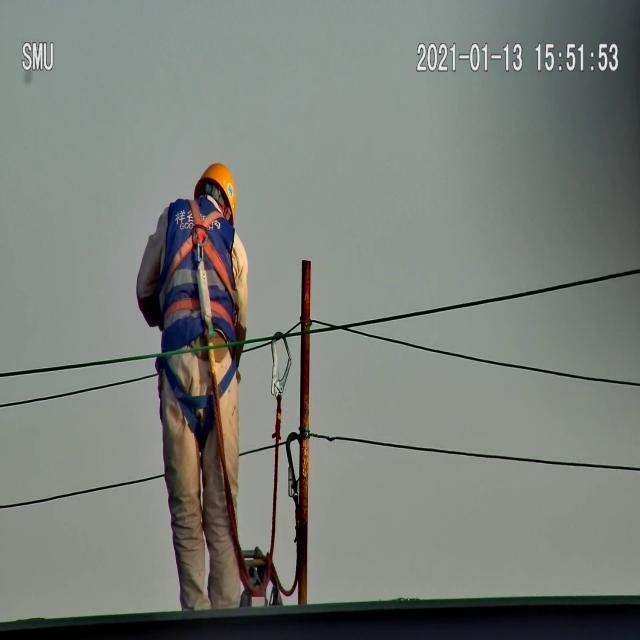Arnes_seguridad: (160, 193, 237, 368)
